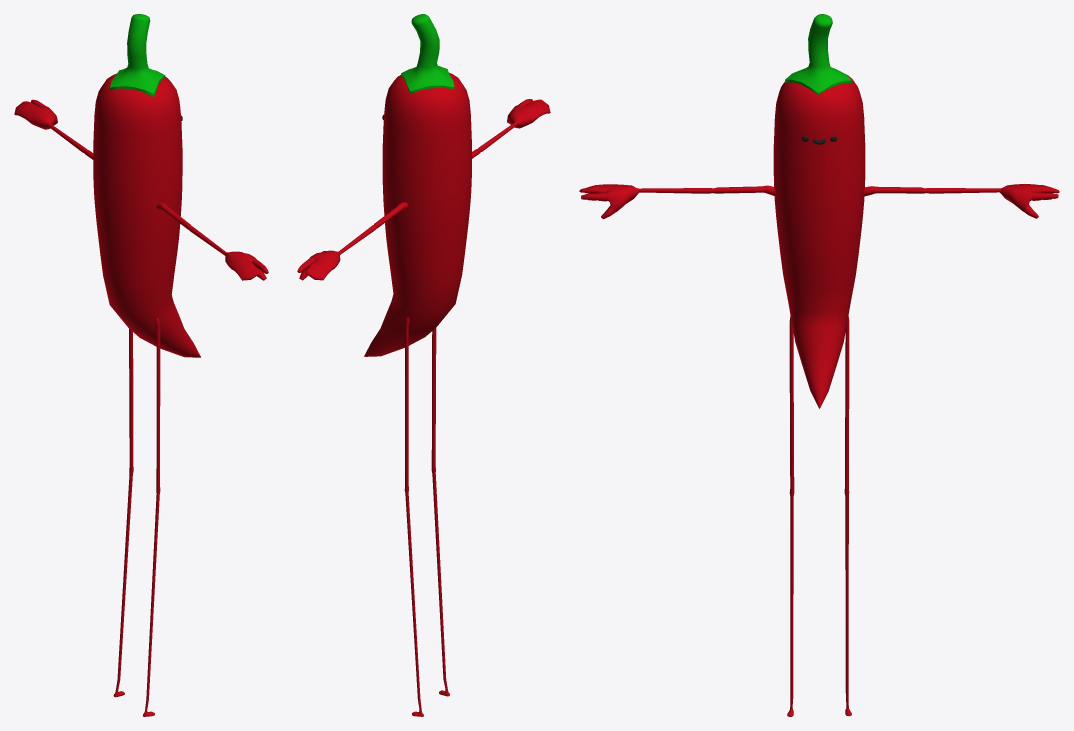
The model's file is scene_Lr08iBBptB.glb.
3 renders of one model, left to right at view 1: azimuth 30°, elevation 25°; view 2: azimuth 150°, elevation 25°; view 3: azimuth 270°, elevation 25°, orthographic. The views are drawn at different scales.
Visible parts, largest first — view 1: mesh_char_122; view 2: mesh_char_122; view 3: mesh_char_122.
Boxes of the visible parts, x1,y1,x2,y2 form: mesh_char_122: (14,14,268,716); mesh_char_122: (297,14,550,716); mesh_char_122: (579,14,1059,716).
Bounding box in the file's own units: 0.9495 × 6.09 × 3.78.
1 material, 1 textured.
